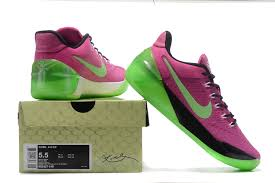nike: (160, 53, 216, 121), (71, 55, 108, 78)
